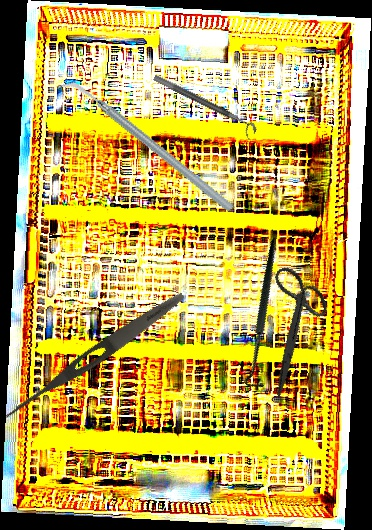Chopper: (58, 38, 235, 254)
Dressing Forceps: (0, 287, 189, 426)
Fixation Ring: (148, 73, 259, 142)
Hook Surgical: (193, 237, 339, 394)
Iris Scissors: (234, 257, 352, 398)
